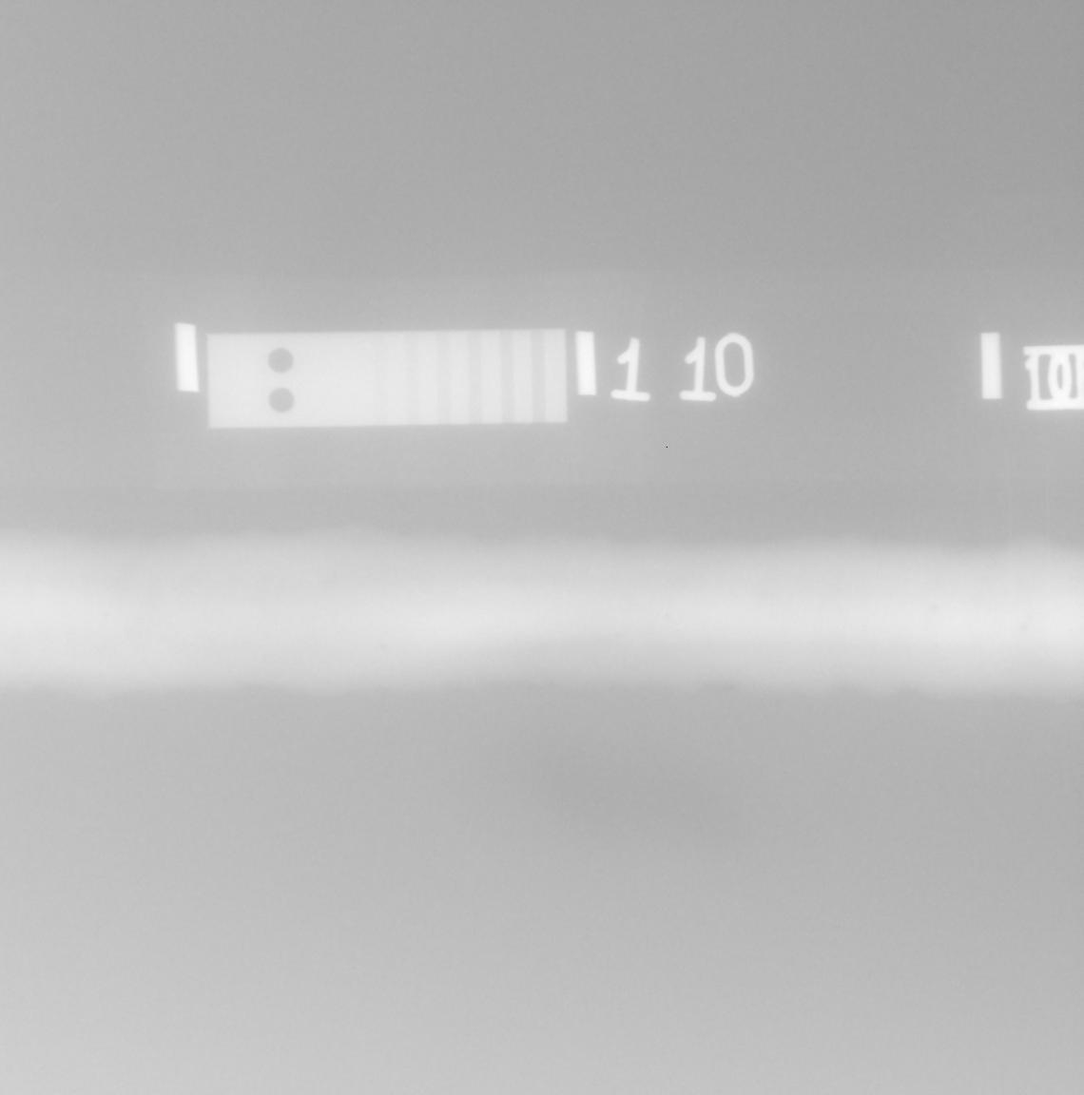Pore/Porosity: (930, 605, 940, 614), (380, 644, 389, 651), (1021, 624, 1028, 631), (104, 612, 110, 618), (1025, 615, 1032, 620), (666, 614, 671, 619)
Reference Standard 2: (206, 329, 568, 428)
